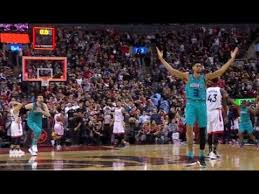hoop: (39, 76, 51, 88)
